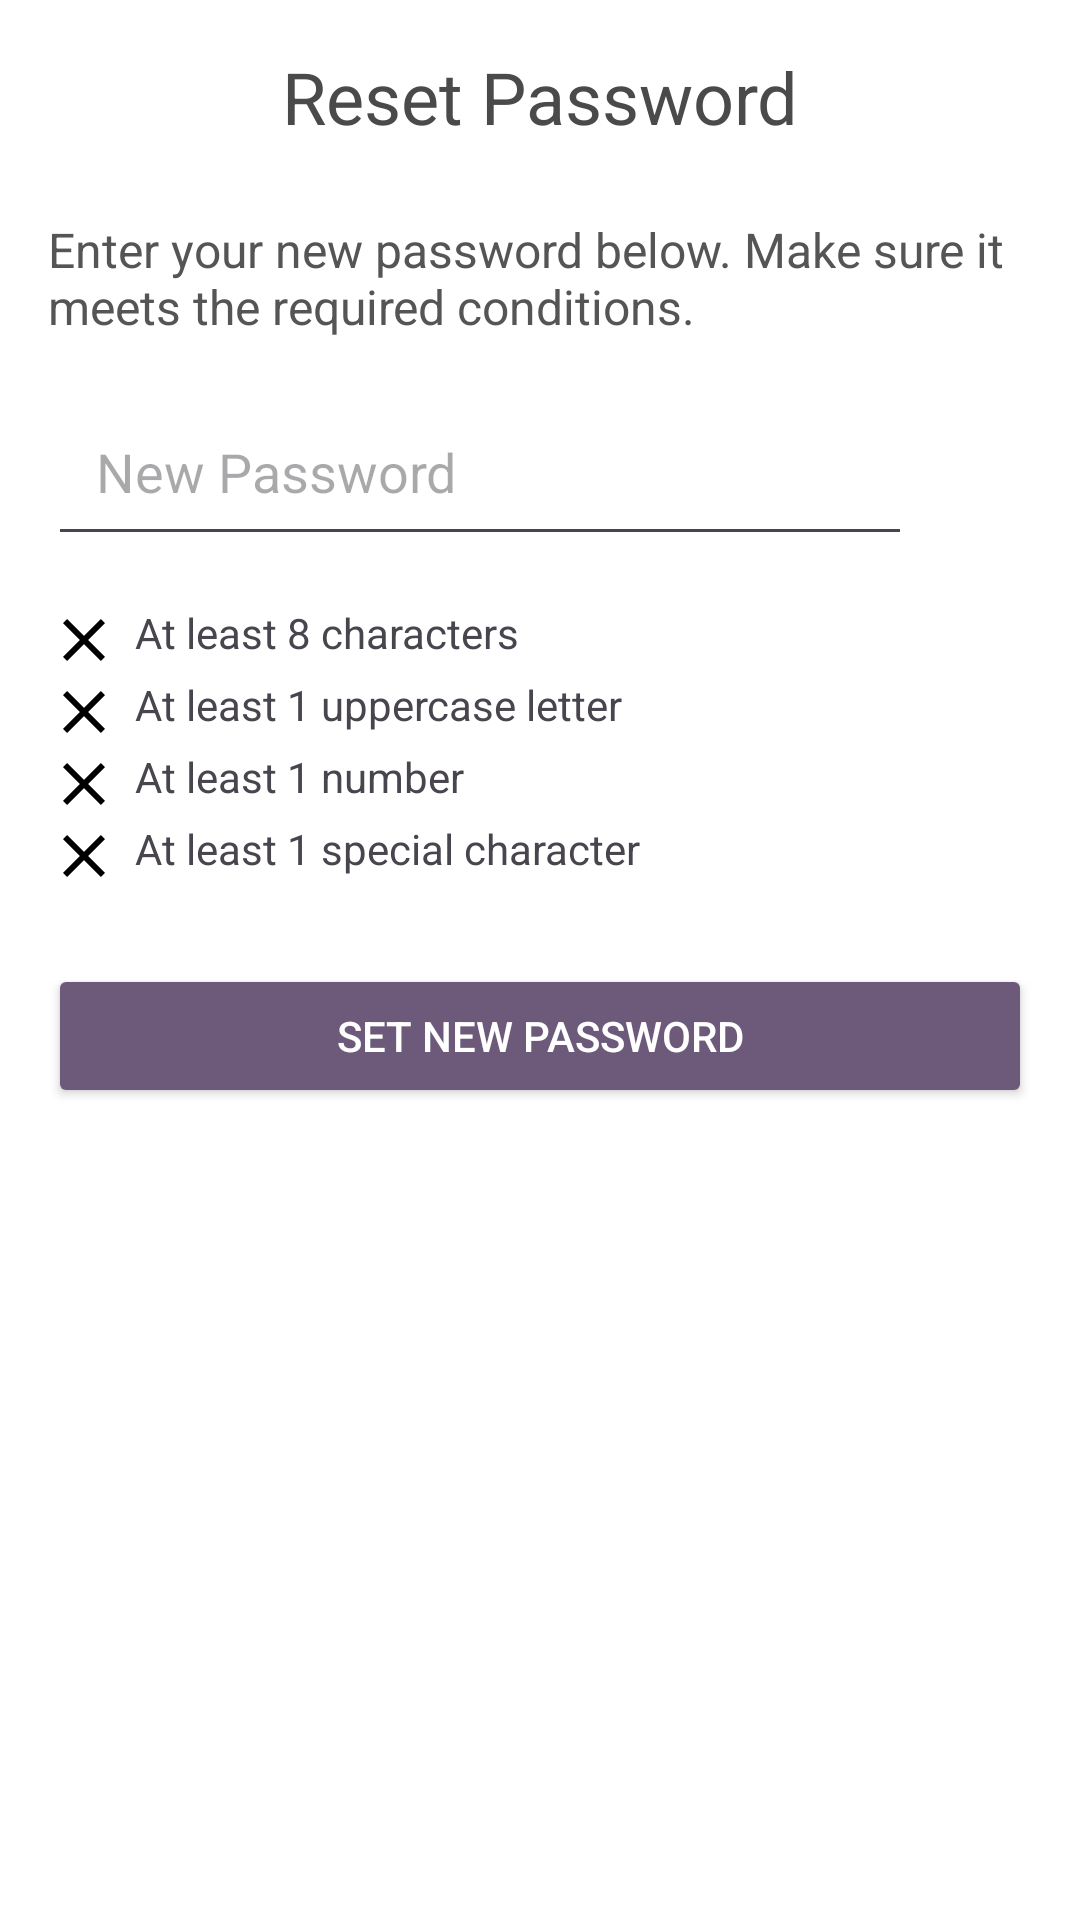

Locate icon controls on the screen. Image size 1080×1920, boxes as detection(x1, y1, x2, y2).
cross: detection(63, 619, 105, 661), detection(63, 691, 105, 733), detection(63, 763, 105, 805), detection(63, 835, 105, 877)
